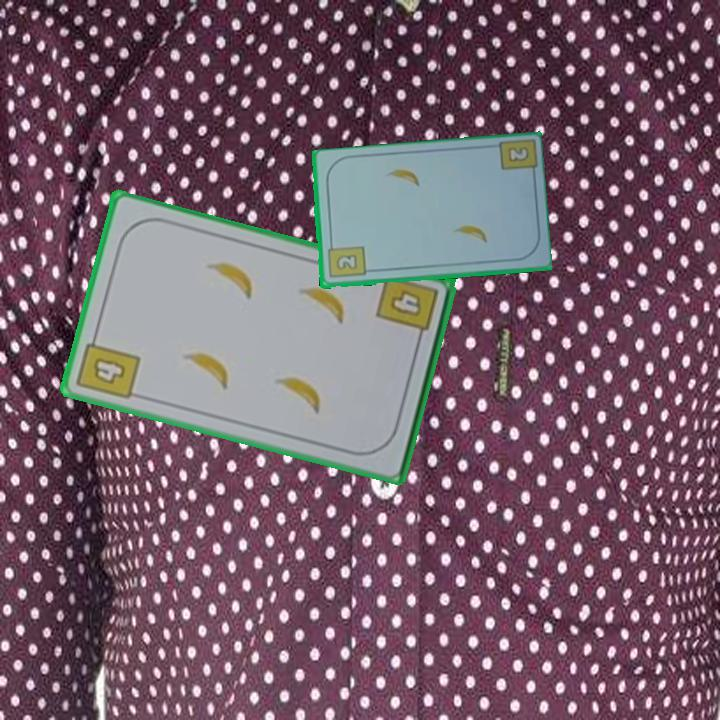2b: (324, 239, 368, 281), (504, 143, 532, 165)
4b: (73, 329, 143, 403), (372, 272, 441, 346)
